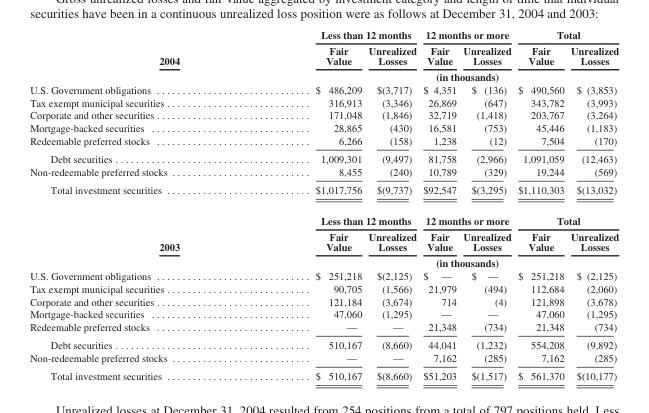table: (29, 28, 618, 381)
table column: (29, 28, 246, 381), (246, 28, 364, 381), (364, 28, 419, 381), (459, 28, 513, 381), (513, 28, 566, 381), (566, 28, 618, 381), (419, 28, 459, 381)
table column header: (29, 28, 618, 82)
table row: (29, 42, 618, 68), (29, 228, 618, 254), (29, 180, 618, 205), (29, 205, 618, 228), (29, 149, 618, 165), (29, 335, 618, 351), (29, 134, 618, 149), (29, 165, 618, 180), (29, 320, 618, 335), (29, 351, 618, 366), (29, 366, 618, 381), (29, 28, 618, 42), (29, 68, 618, 82), (29, 254, 618, 268), (29, 82, 618, 95), (29, 95, 618, 108), (29, 108, 618, 121), (29, 121, 618, 134), (29, 268, 618, 281), (29, 281, 618, 294), (29, 294, 618, 307), (29, 307, 618, 320)
table spanning cell: (29, 28, 246, 82), (246, 68, 618, 82), (246, 254, 618, 268), (246, 205, 419, 228), (246, 28, 419, 42), (513, 205, 618, 228), (419, 205, 513, 228), (513, 28, 618, 42), (419, 28, 513, 42)
